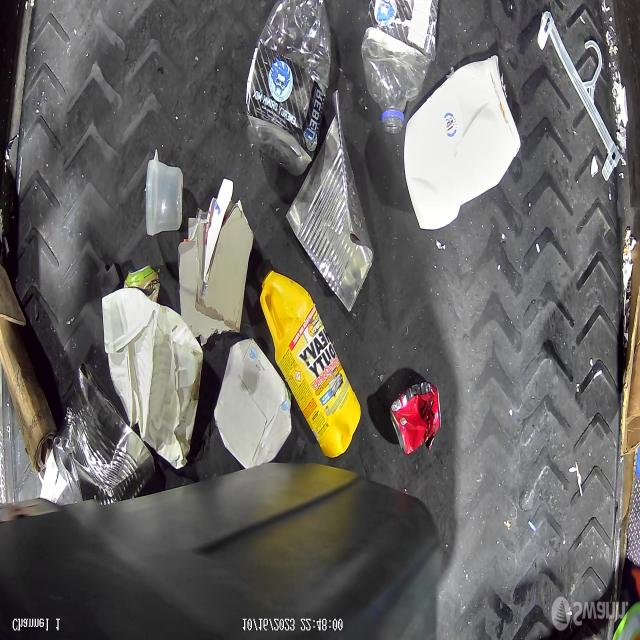can: (286, 90, 375, 312), (53, 361, 155, 505), (391, 381, 442, 456), (124, 265, 160, 303)
milk_jug: (404, 55, 522, 228)
non_white_jug: (256, 259, 361, 458)
plastic_bottle: (246, 0, 332, 178), (361, 2, 433, 134)
